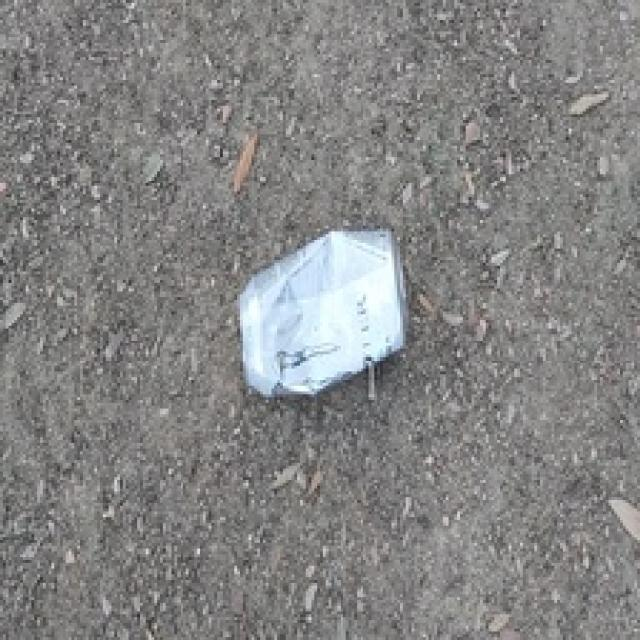recyclable: (238, 228, 414, 400)
